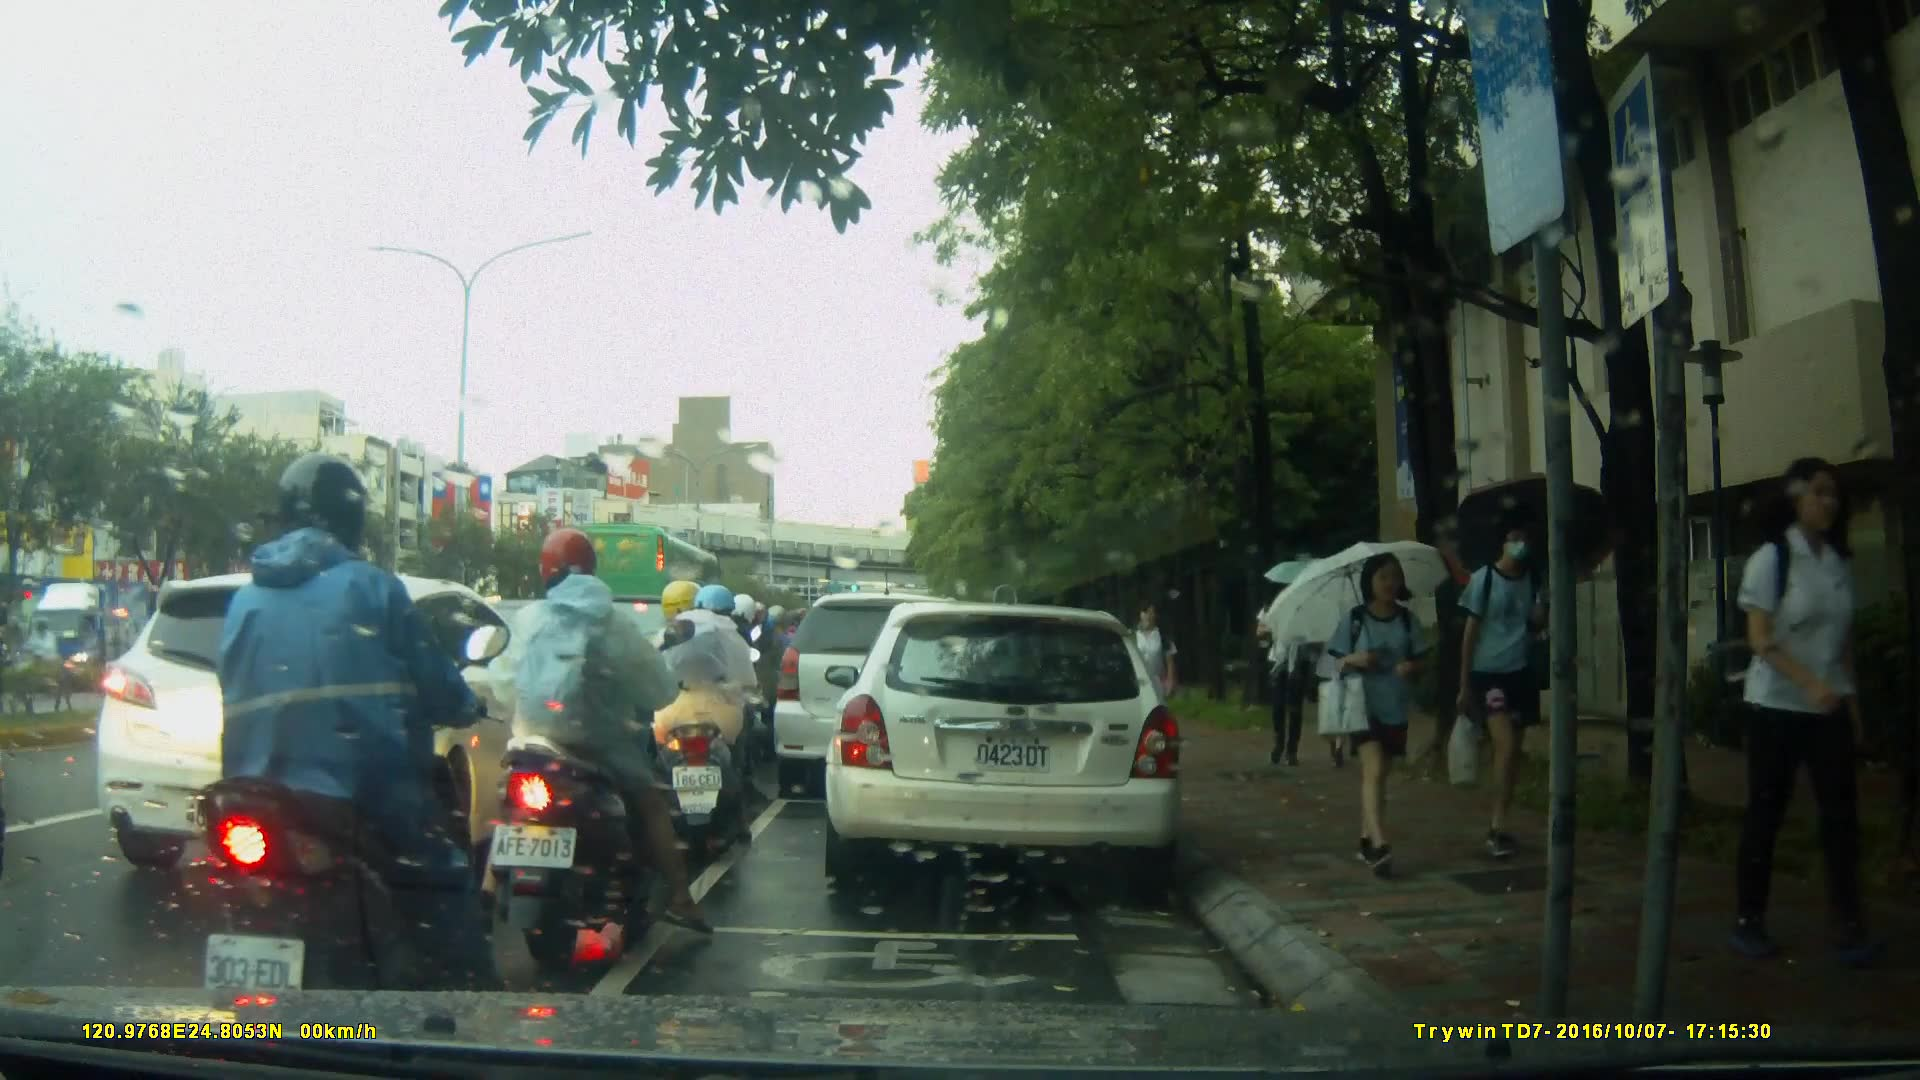pedestrian: (1718, 454, 1872, 956), (1449, 508, 1580, 864), (1314, 540, 1445, 888), (1261, 570, 1314, 772), (1124, 594, 1182, 763)
rider: (182, 450, 472, 1050), (480, 527, 725, 957), (628, 586, 772, 856), (669, 592, 763, 795)
vehicle: (94, 569, 608, 883), (822, 604, 1187, 883), (774, 595, 995, 802), (563, 522, 744, 662), (20, 576, 199, 697)
